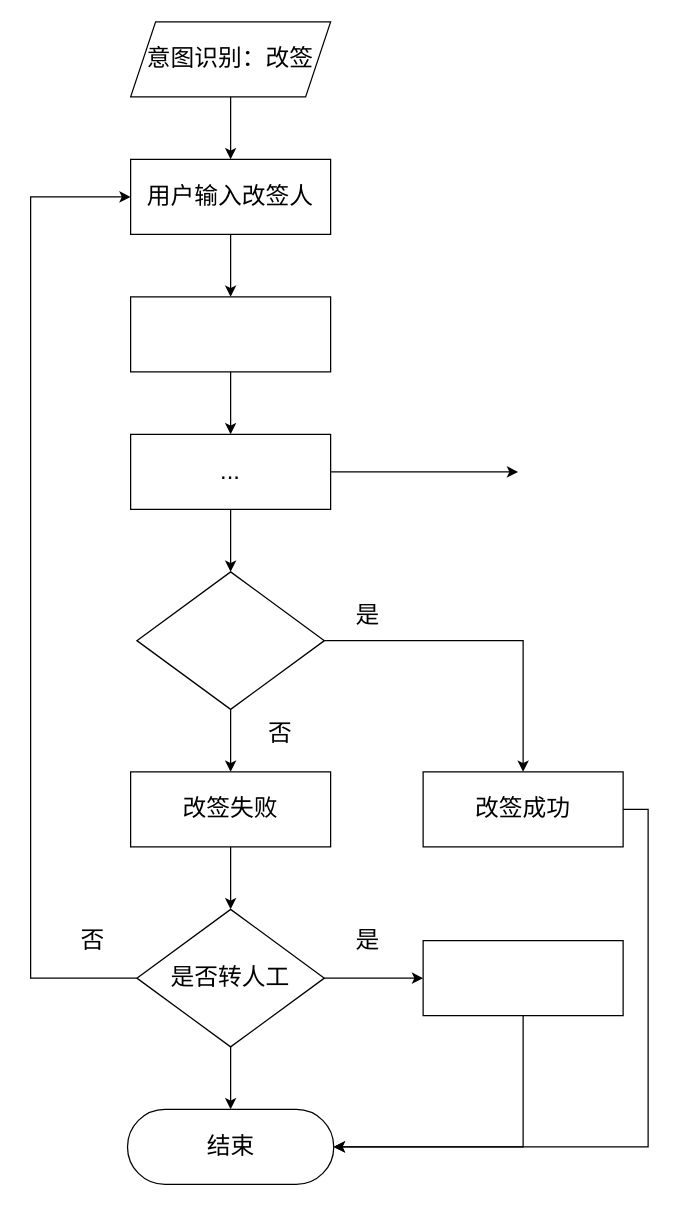
The diagram is 680 pixels wide and 1206 high, and some of its shapes have lost their labels. The shapes that lost their labels are listed below. From the top down, each one's centre as x and y in pixels, then its label:
At (x=230, y=334): "用户输入改签日期".
At (x=230, y=640): "是否符合 改签政策".
At (x=522, y=977): "人工".
